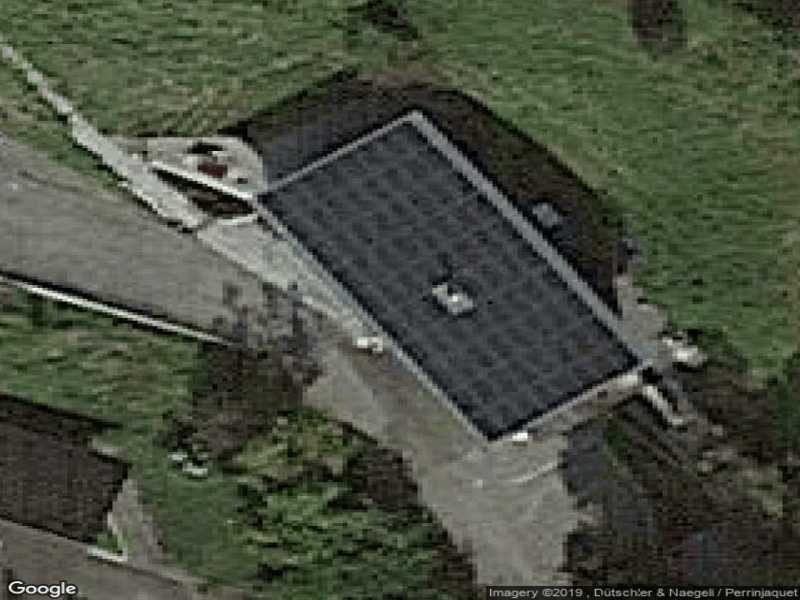pv: (258, 126, 640, 443)
